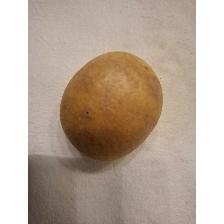Kartoffel: (59, 47, 165, 165)
